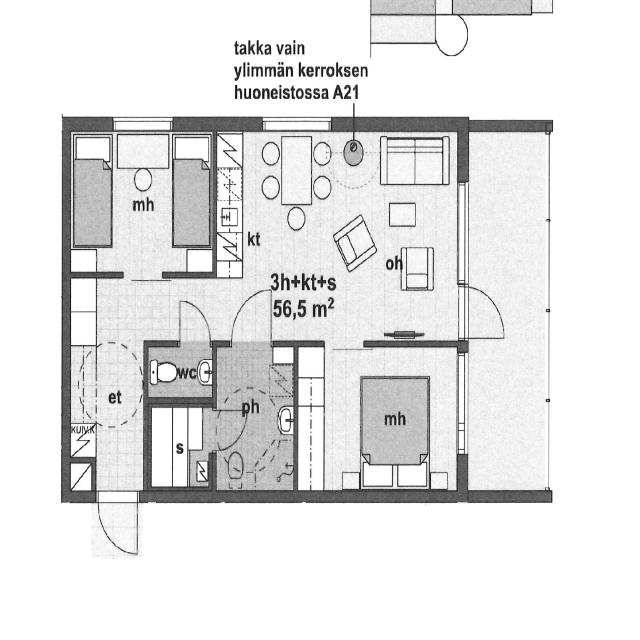door: (212, 123, 462, 344), (297, 344, 462, 498), (62, 123, 212, 281), (214, 341, 296, 498), (145, 402, 216, 491), (144, 344, 212, 403)
window: (452, 349, 472, 459), (454, 174, 474, 283), (254, 110, 333, 132), (112, 110, 172, 136)
zone: (454, 283, 514, 347), (228, 278, 277, 349), (96, 488, 142, 561), (173, 295, 216, 346), (211, 407, 249, 455)
